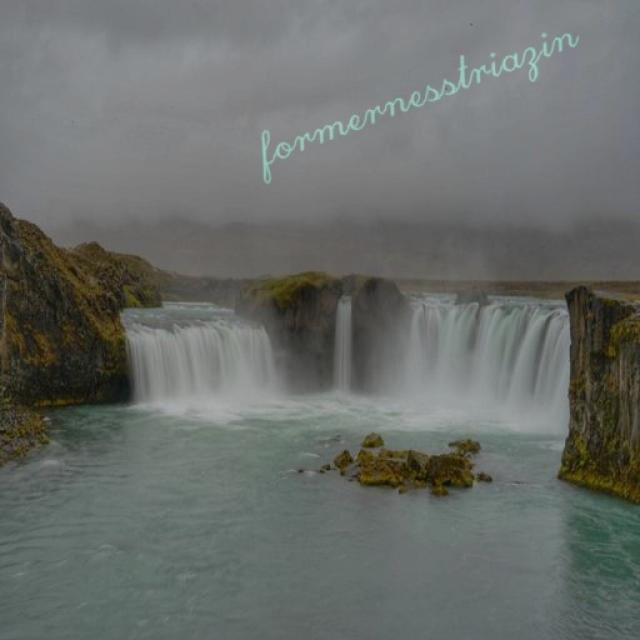watermark: (254, 9, 580, 172)
